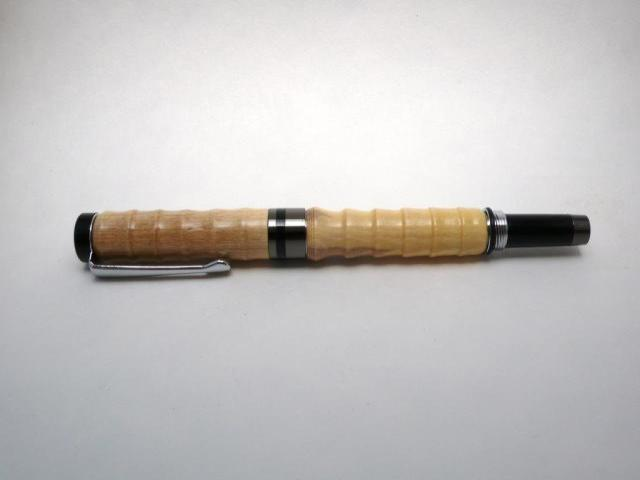PEN: (47, 184, 640, 302)
